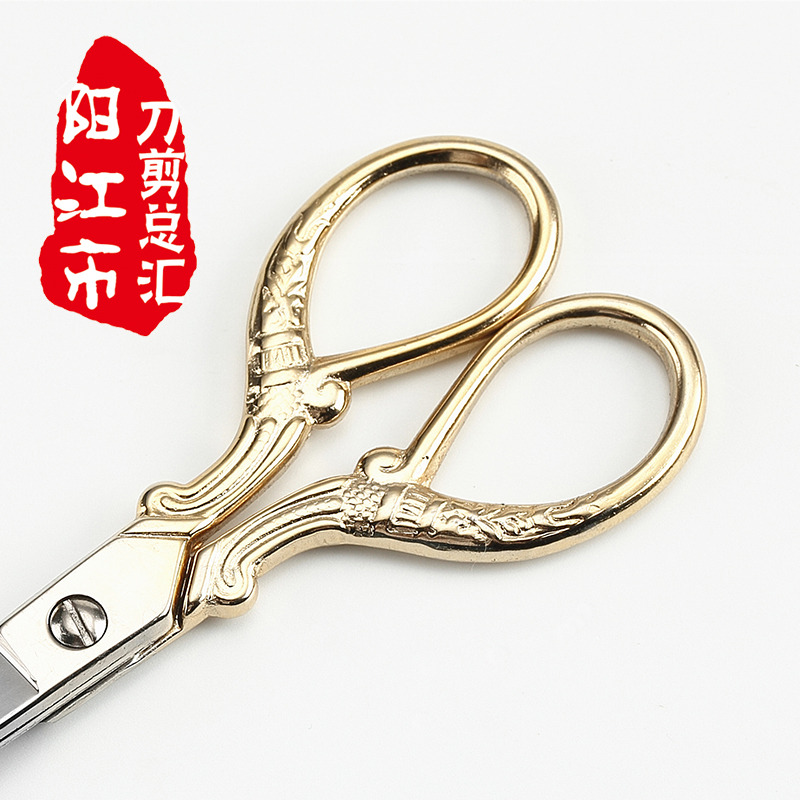scissors: (1, 128, 718, 755)
